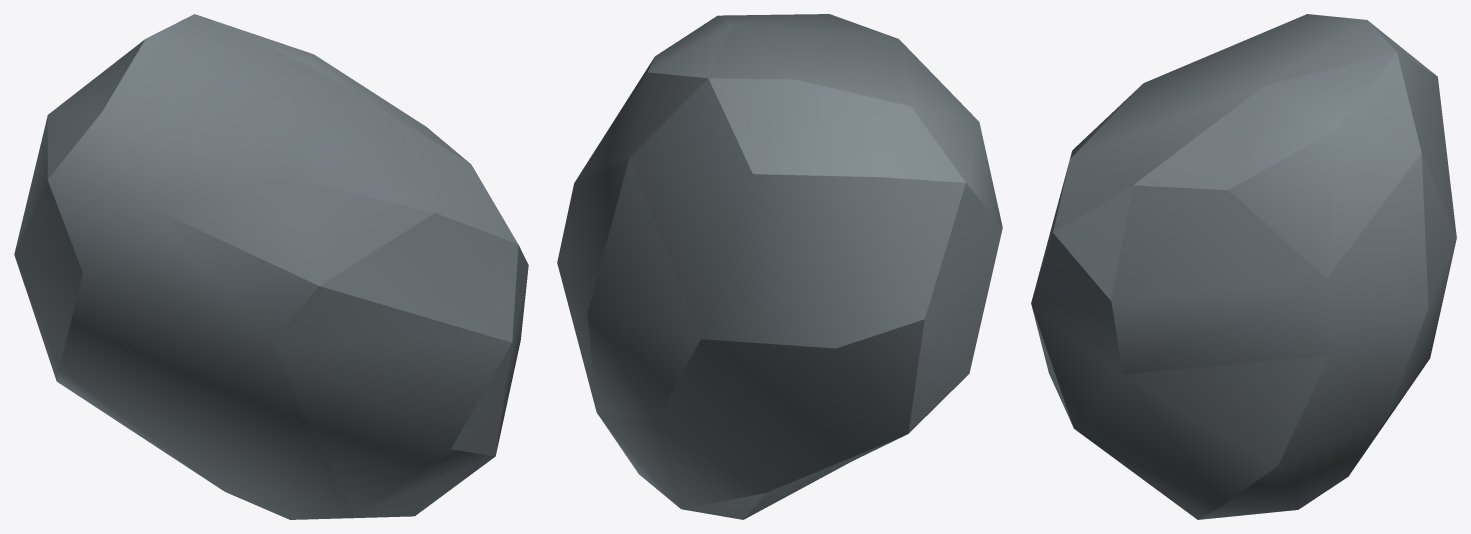
The model's file is Rock_3_C.glb.
The picture shows the model from 3 angles, left to right: view 1: azimuth 30°, elevation 25°; view 2: azimuth 150°, elevation 25°; view 3: azimuth 270°, elevation 25°; orthographic projection. The views are drawn at different scales.
Parts seen in each view (by area): view 1: Rock_3_C_Color1; view 2: Rock_3_C_Color1; view 3: Rock_3_C_Color1.
Part boxes in pixels (left/top/right/bottom): Rock_3_C_Color1: left=14, top=14, right=528, bottom=519; Rock_3_C_Color1: left=557, top=14, right=1002, bottom=519; Rock_3_C_Color1: left=1031, top=14, right=1456, bottom=519.
Size of the model in its own units: 0.8051 by 0.9676 by 0.8596.
1 material, 1 textured.
